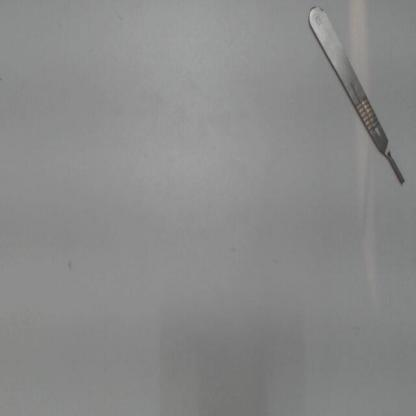No.3 BP Handle: (295, 5, 410, 196)
